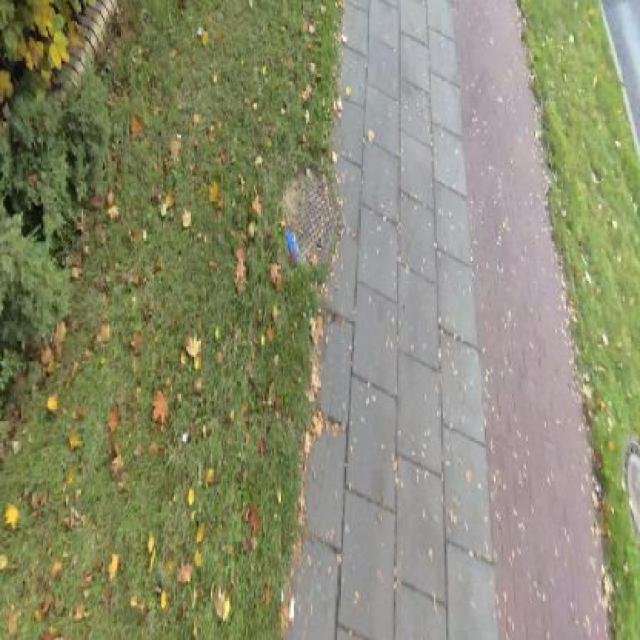Garbage: (285, 230, 300, 270)
